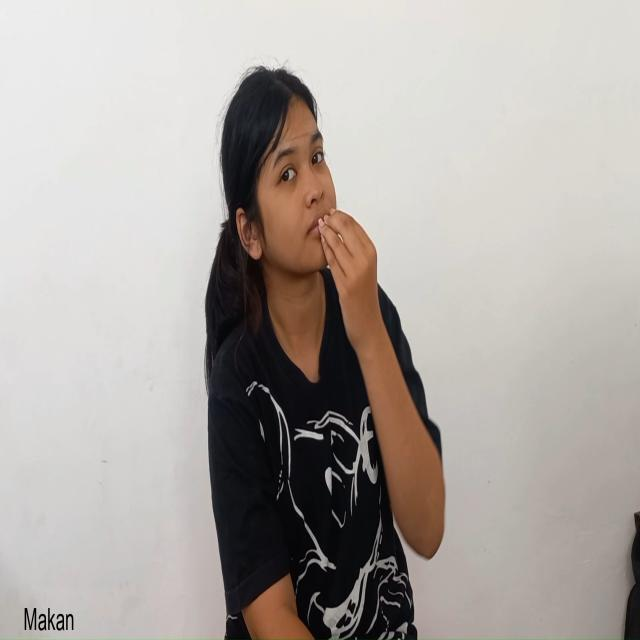Makan -BISINDO-: (235, 71, 378, 359)
